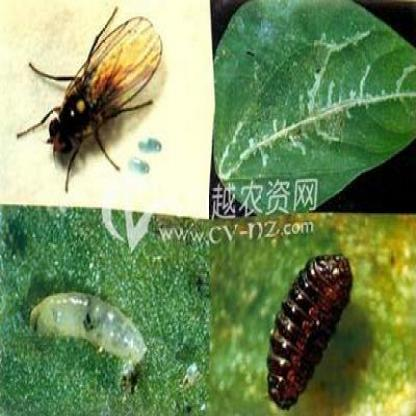whorl-maggot: (257, 247, 362, 412), (27, 278, 153, 379)
